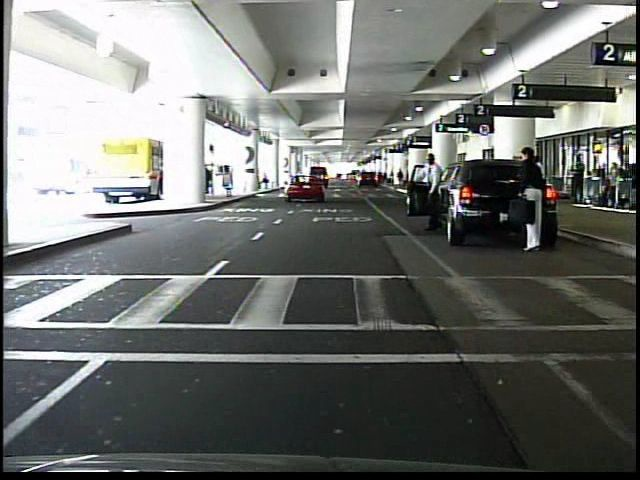person: (515, 148, 554, 258), (421, 153, 446, 237), (571, 157, 584, 205), (396, 168, 406, 188)
